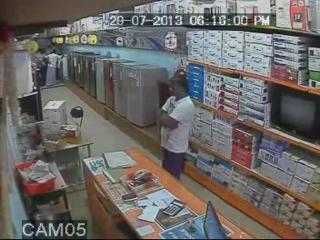Normal: (158, 73, 196, 181)
